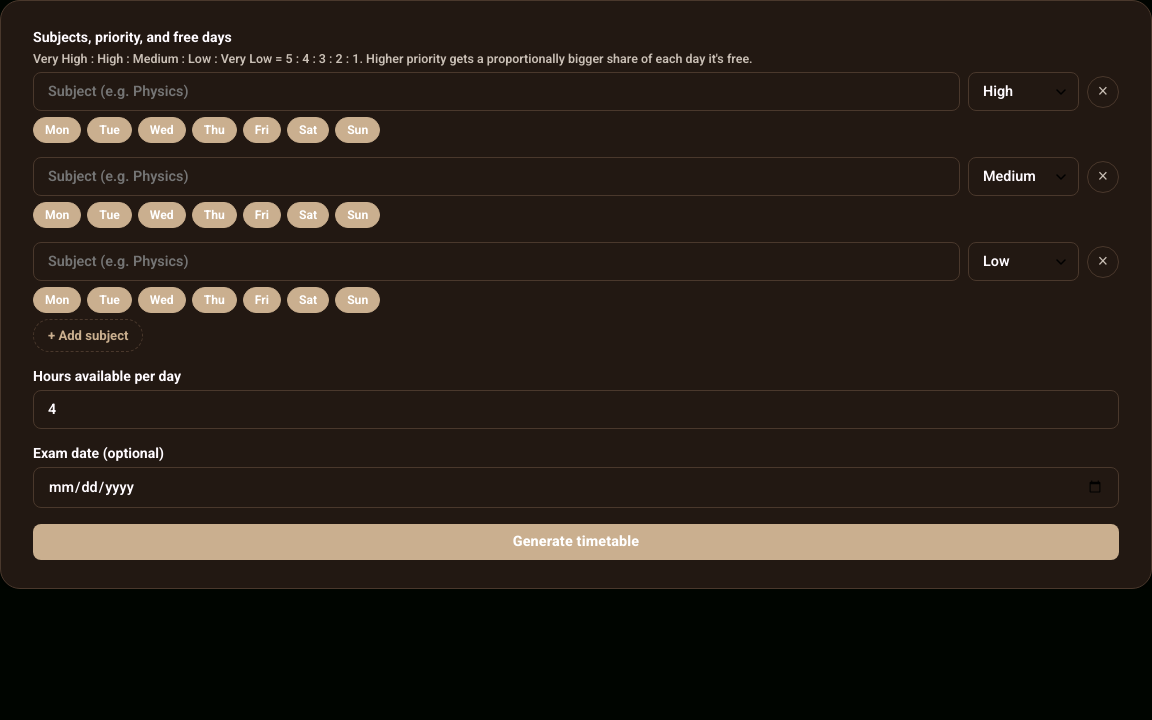
Test case: TimetableGenerator — per-subject free days › shows a priority tag and free-days summary for each subject in the result
The width and height of the screenshot is (1152, 720).
In the 1st field with placeholder "Subject (e.g. Physics)": {"x": 496, "y": 92} [33,72,960,111], type "Physics"
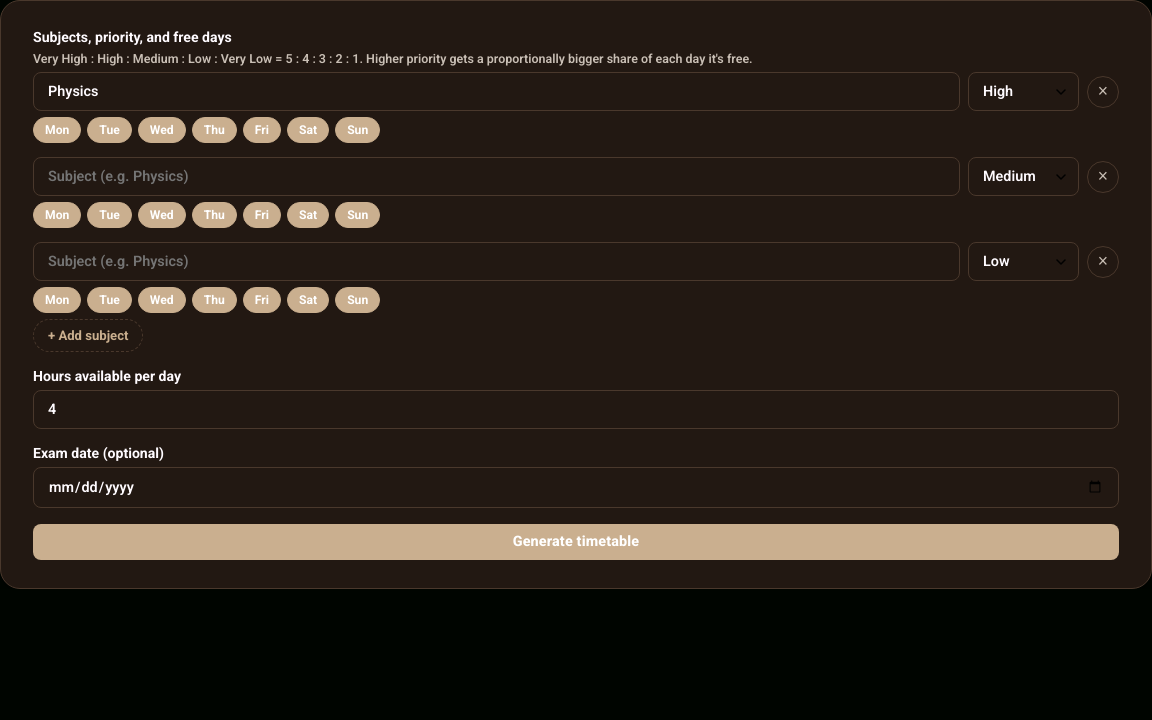
Click the button "Generate timetable": {"x": 576, "y": 542} [33,524,1119,560]
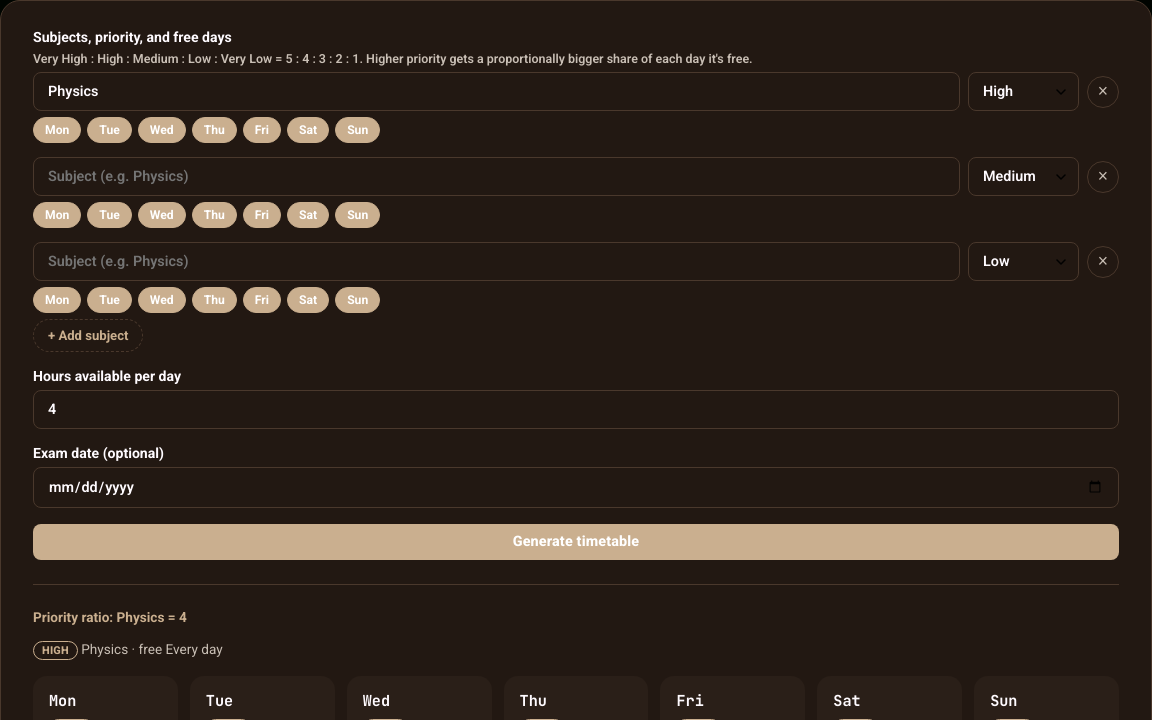
Expected: the list item "High Physics · free Every day" is shown, [33,641,223,660]
